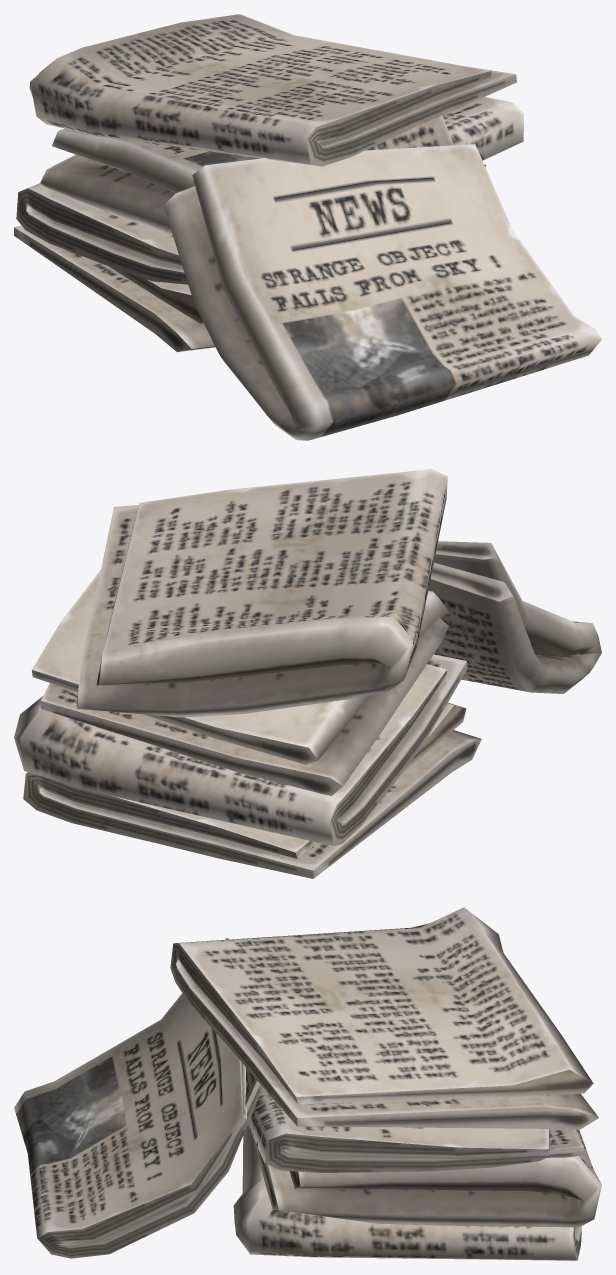
Rendered from newspaper_E.fbx.
The picture shows the model from 3 angles, top to bottom: view 1: azimuth 30°, elevation 25°; view 2: azimuth 150°, elevation 25°; view 3: azimuth 270°, elevation 25°; orthographic projection. The views are drawn at different scales.
Parts seen in each view (by area): view 1: newspaper_E; view 2: newspaper_E; view 3: newspaper_E.
Part boxes in pixels (bbox=[...]): newspaper_E: bbox=[14, 14, 601, 440]; newspaper_E: bbox=[14, 469, 601, 878]; newspaper_E: bbox=[14, 907, 601, 1260].
Bounding box in the file's own units: 42.09 × 24.93 × 57.18.
